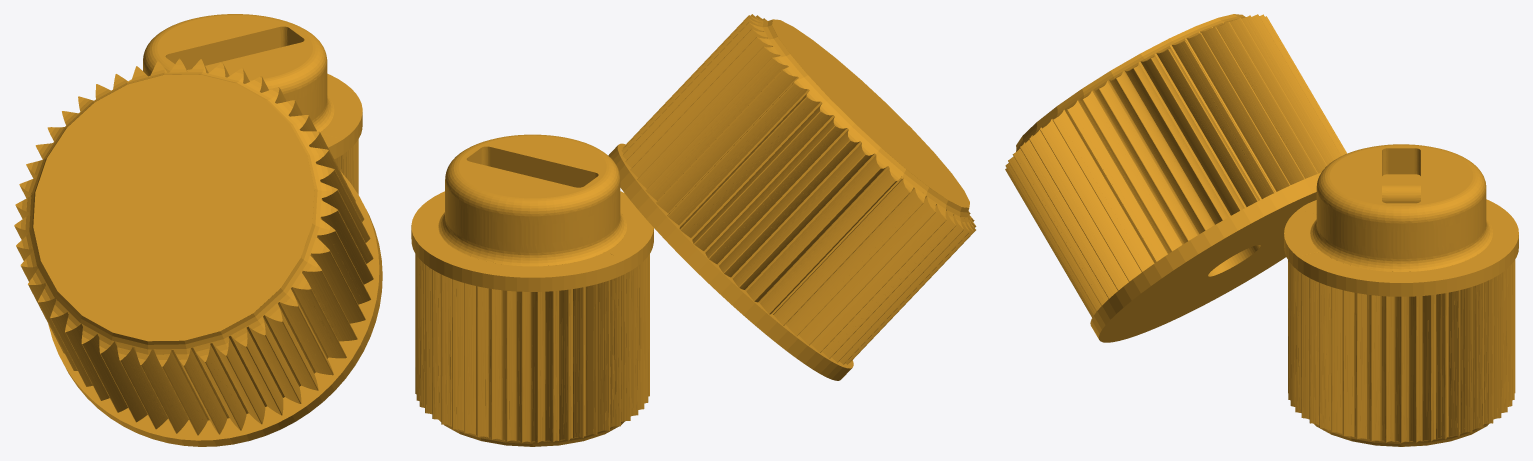
The model's file is knobs_bronze.glb.
The picture shows the model from 3 angles, left to right: view 1: azimuth 30°, elevation 25°; view 2: azimuth 150°, elevation 25°; view 3: azimuth 270°, elevation 25°; orthographic projection. The views are drawn at different scales.
Bounding box in the file's own units: 0.0356 × 0.0273 × 0.0394.
